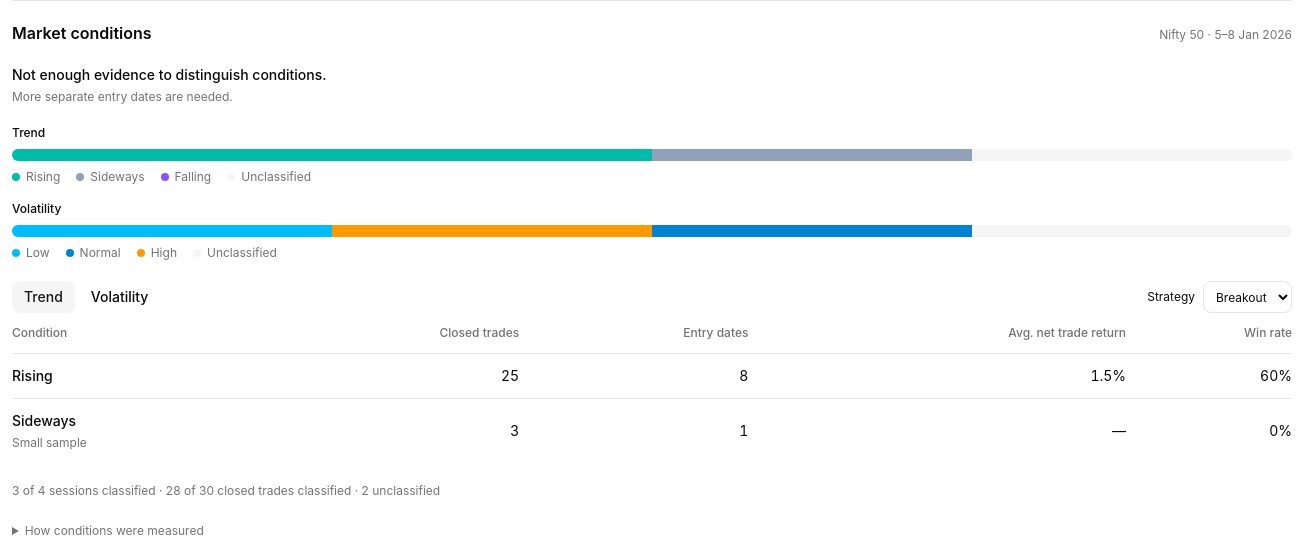
saved market conditions › shows historical trend and volatility separately with honest counts and accessible cohort controls
This screenshot has width=1304, height=552.
Expected: the list named "Historical volatility, earliest to latest" is shown, left=12, top=225, right=1292, bottom=237
Expected: the text "3 of 4 sessions classified · 28 of 30 closed trades classified · 2 unclassified" is shown, left=12, top=483, right=440, bottom=498
Click the button "Volatility". click: (120, 297)
box: left=79, top=281, right=160, bottom=313
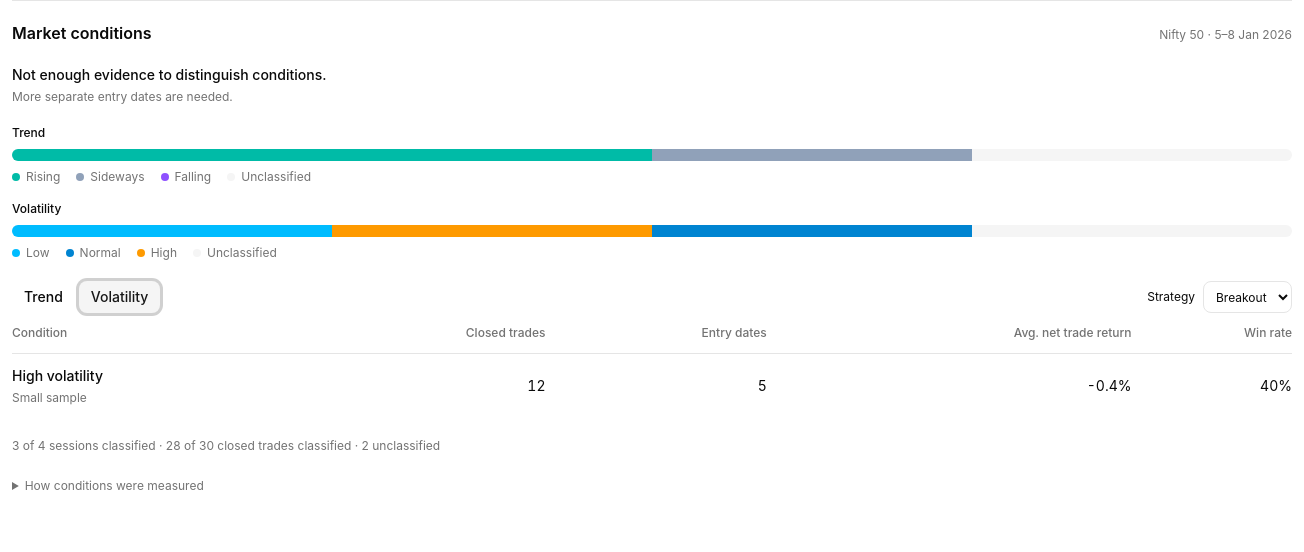
Now the row "High volatility Small sample 12 5 -0.4% 40%" is shown, box left=12, top=354, right=1292, bottom=418
Click the button "Trend". click: (43, 297)
box: left=12, top=281, right=75, bottom=313
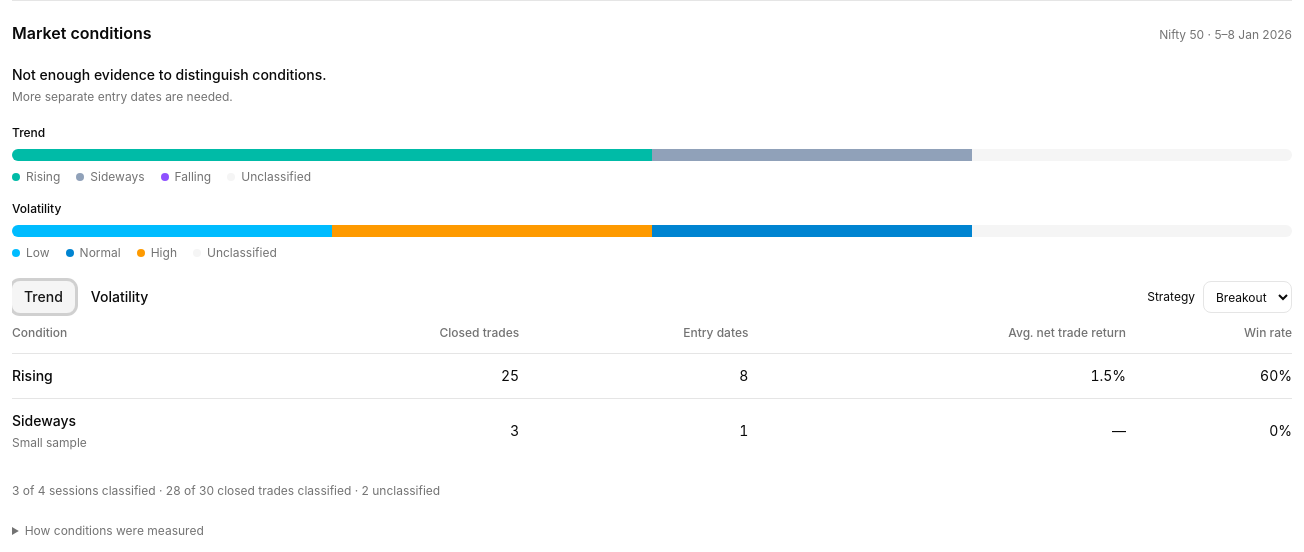
Select "Reversal" in the dropdown labelled "Strategy". click: (1248, 297)
box: left=1203, top=281, right=1292, bottom=313
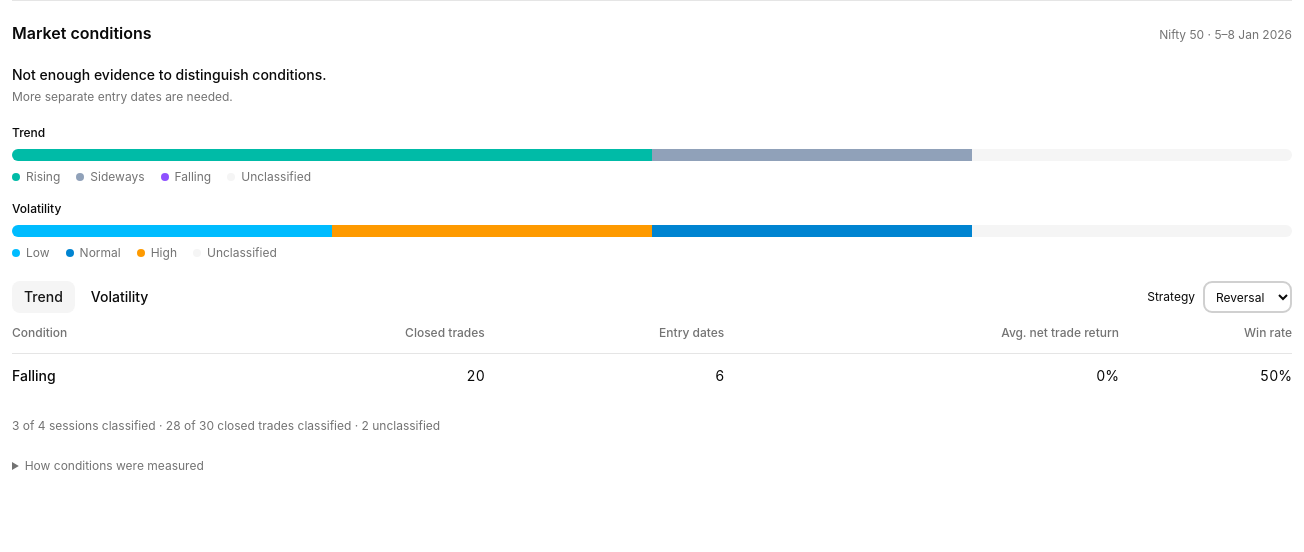
Now the row "Falling 20 6 0% 50%" is shown, box left=12, top=354, right=1292, bottom=398
